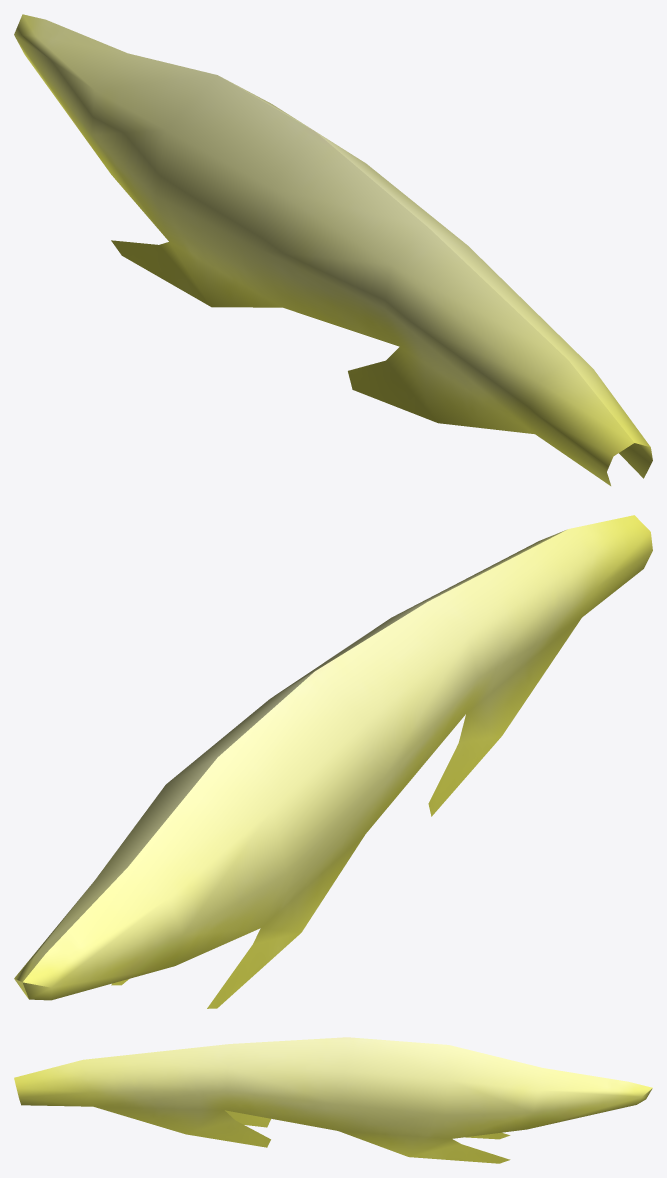
File: cola.obj
The picture shows the model from 3 angles, top to bottom: view 1: azimuth 30°, elevation 25°; view 2: azimuth 150°, elevation 25°; view 3: azimuth 270°, elevation 25°; orthographic projection. The views are drawn at different scales.
Parts seen in each view (by area): view 1: cola; view 2: cola; view 3: cola.
Part boxes in pixels (x1,y1,x2,y2): cola: (14,14,652,485); cola: (14,515,652,1008); cola: (14,1037,652,1163).
Bounding box in the file's own units: 0.0562 × 0.0898 × 0.4544.
